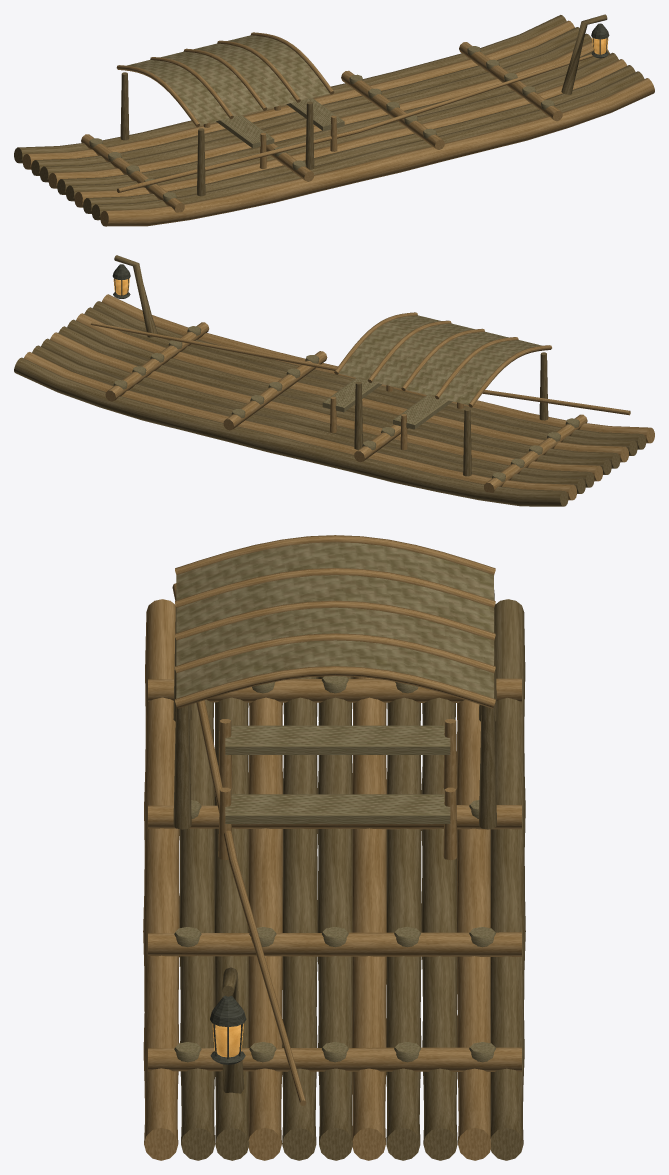
Rendered from bamboo_raft.glb.
The picture shows the model from 3 angles, top to bottom: view 1: azimuth 30°, elevation 25°; view 2: azimuth 150°, elevation 25°; view 3: azimuth 270°, elevation 25°; orthographic projection. The views are drawn at different scales.
Visible parts, largest first — view 1: bamboo_raft; view 2: bamboo_raft; view 3: bamboo_raft.
Boxes of the visible parts, <box> form: bamboo_raft: <box>14,14,654,226</box>; bamboo_raft: <box>14,255,654,506</box>; bamboo_raft: <box>143,535,525,1160</box>.
Bounding box in the file's own units: 4.8 × 0.92 × 1.45.
2 materials, 2 textured.
